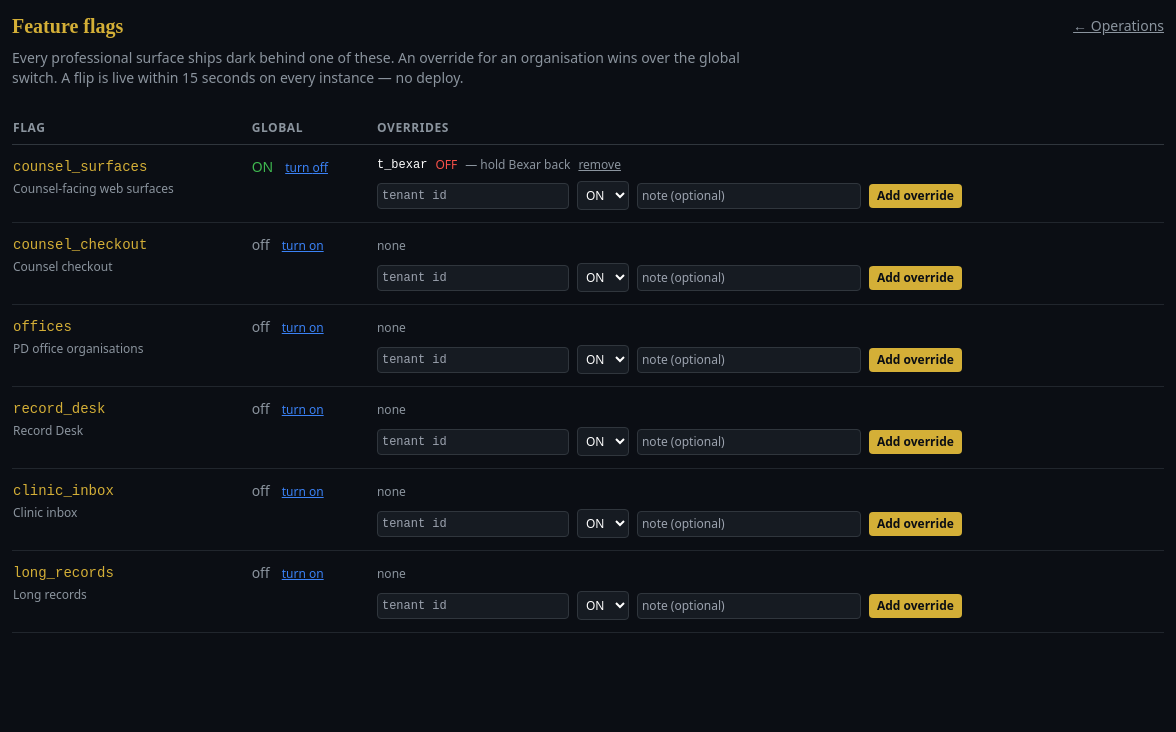
Test: flags page › a failed write is reported, not swallowed
Click the button with test id "flag-toggle-offices". click: point(303, 328)
box: [282,320,324,336]
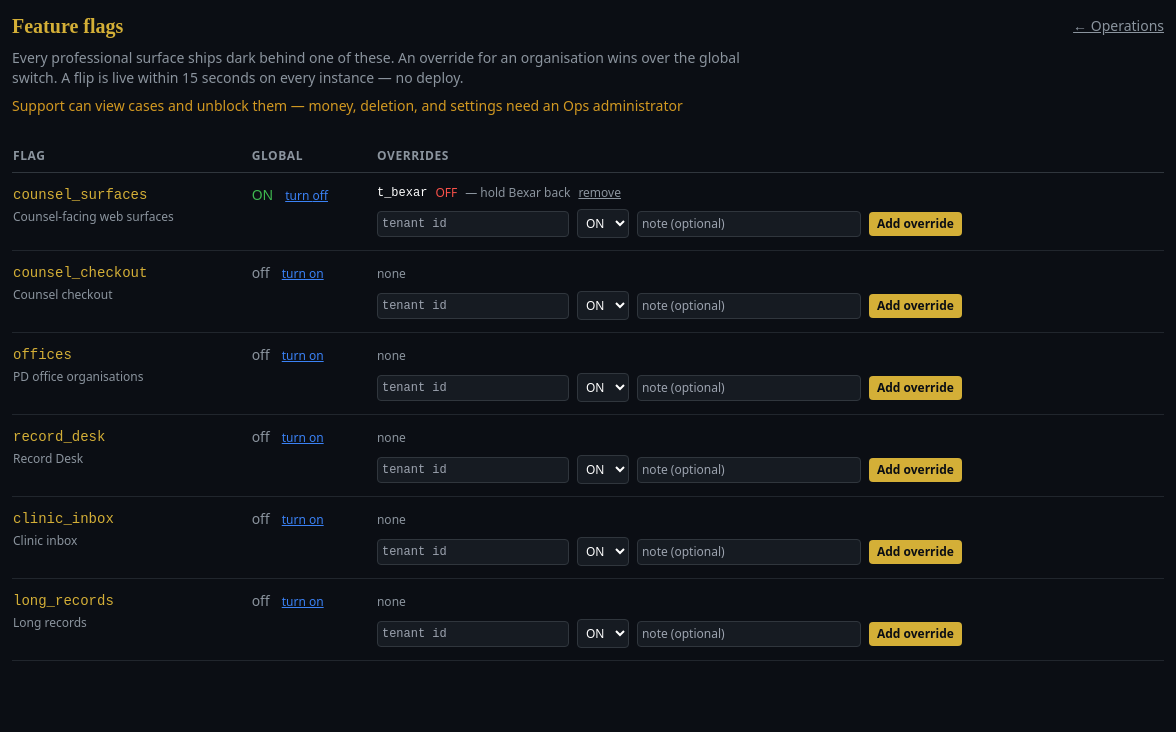
Now the text with test id "flags-notice" shows "need an Ops administrator", box [12,96,683,115]
